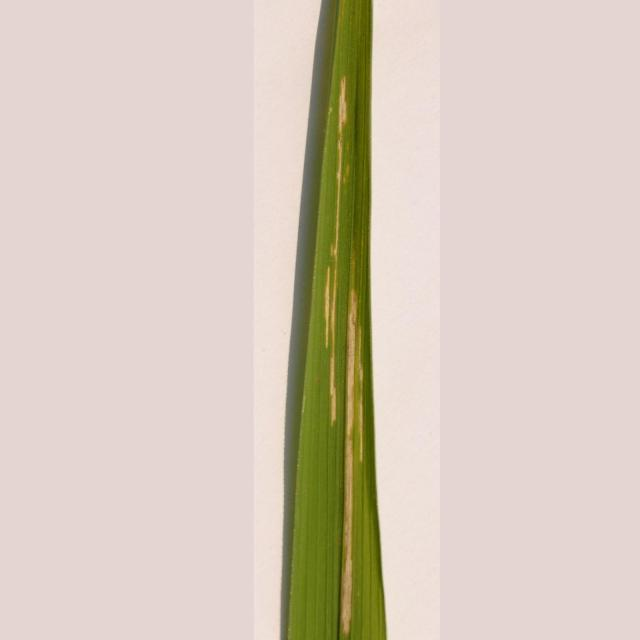leaf blight: (314, 73, 375, 640)
